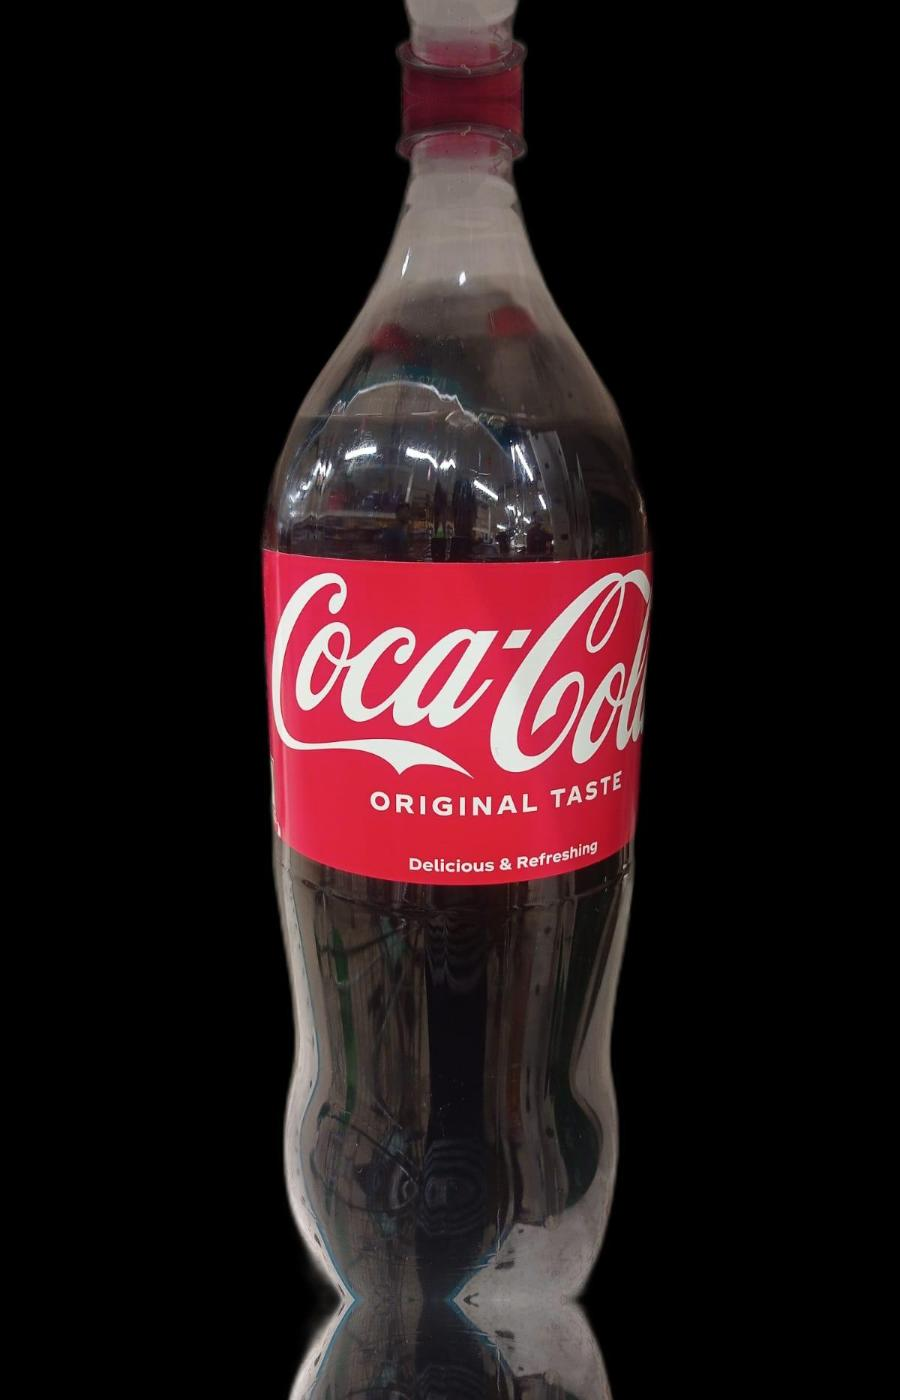Coca-Cola-1 liter-: (263, 100, 637, 1300)
